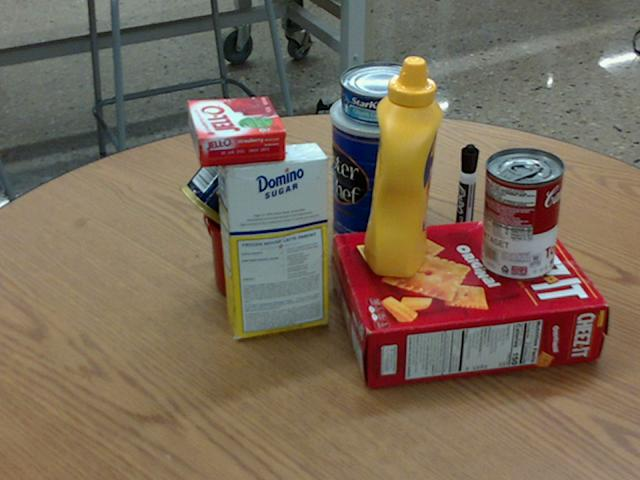cracker_box: (335, 213, 605, 389)
gelatin_box: (188, 95, 285, 166)
large_marker: (453, 144, 477, 251)
master_chef_can: (332, 89, 431, 248)
mug: (200, 188, 296, 300)
mustard_bottle: (364, 55, 442, 277)
potted_meat_can: (180, 121, 314, 251)
sugar_box: (215, 141, 328, 337)
tomato_soup_can: (482, 146, 564, 279)
tuna_fish_can: (341, 62, 424, 124)
